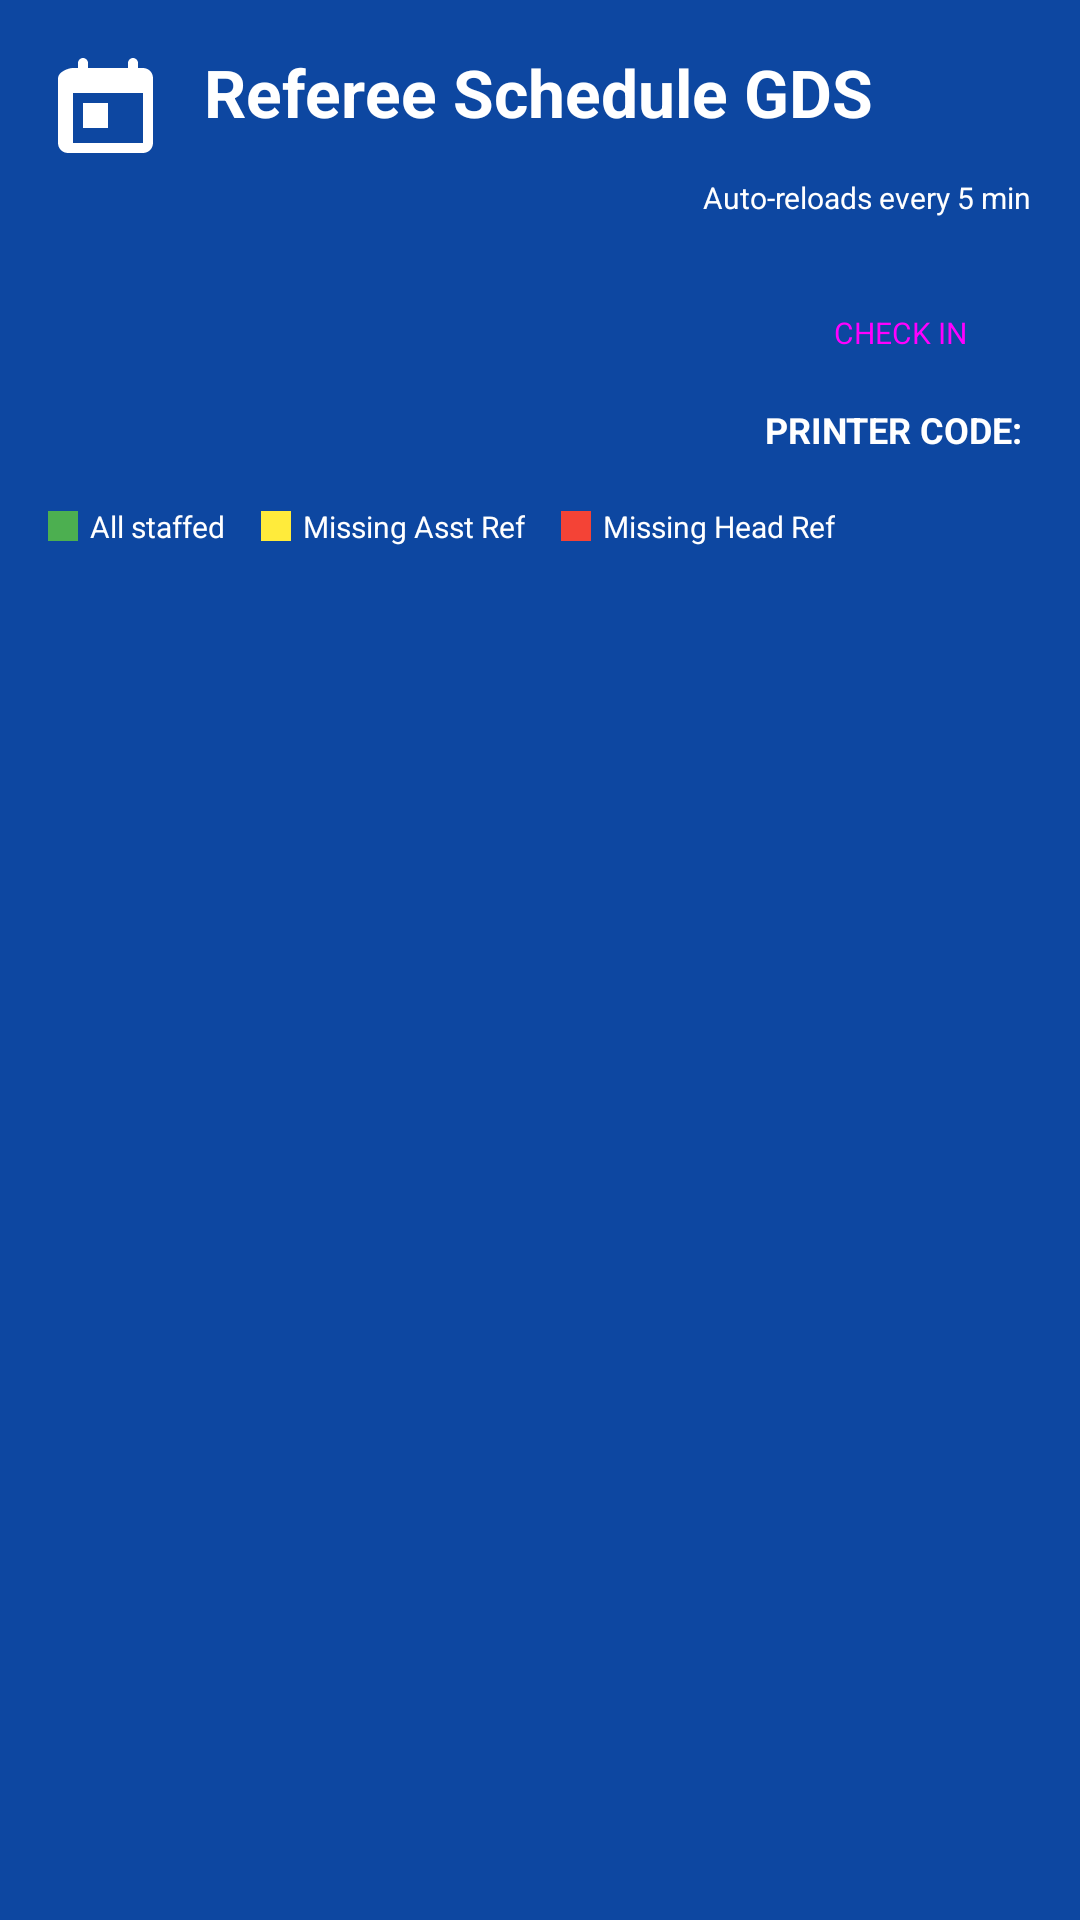

Icon bounding boxes for this 1080×1920 phone screenshot, format (x1, y1, x2, y2):
Calendar Icon: (58, 58, 153, 153)
